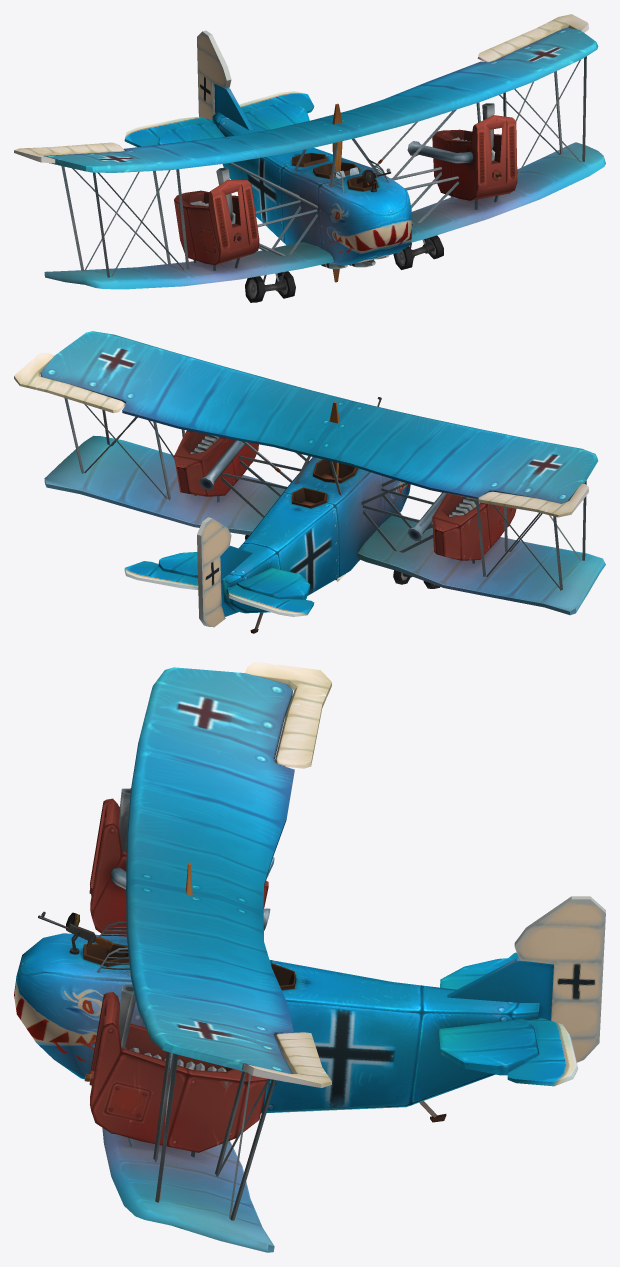
File: Boss10.fbx
The picture shows the model from 3 angles, top to bottom: view 1: azimuth 30°, elevation 25°; view 2: azimuth 150°, elevation 25°; view 3: azimuth 270°, elevation 25°; orthographic projection. The views are drawn at different scales.
Visible parts, largest first — view 1: Boss10, Propeller; view 2: Boss10; view 3: Boss10.
Boxes of the visible parts, <box> form: Boss10: <box>14,14,605,302</box>; Propeller: <box>332,103,342,282</box>; Boss10: <box>14,331,605,633</box>; Boss10: <box>14,662,605,1252</box>.
Bounding box in the file's own units: 2056 × 640 × 1244.
